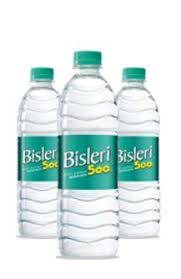Bisleri: (59, 137, 117, 192), (116, 134, 159, 187), (15, 136, 60, 185)
